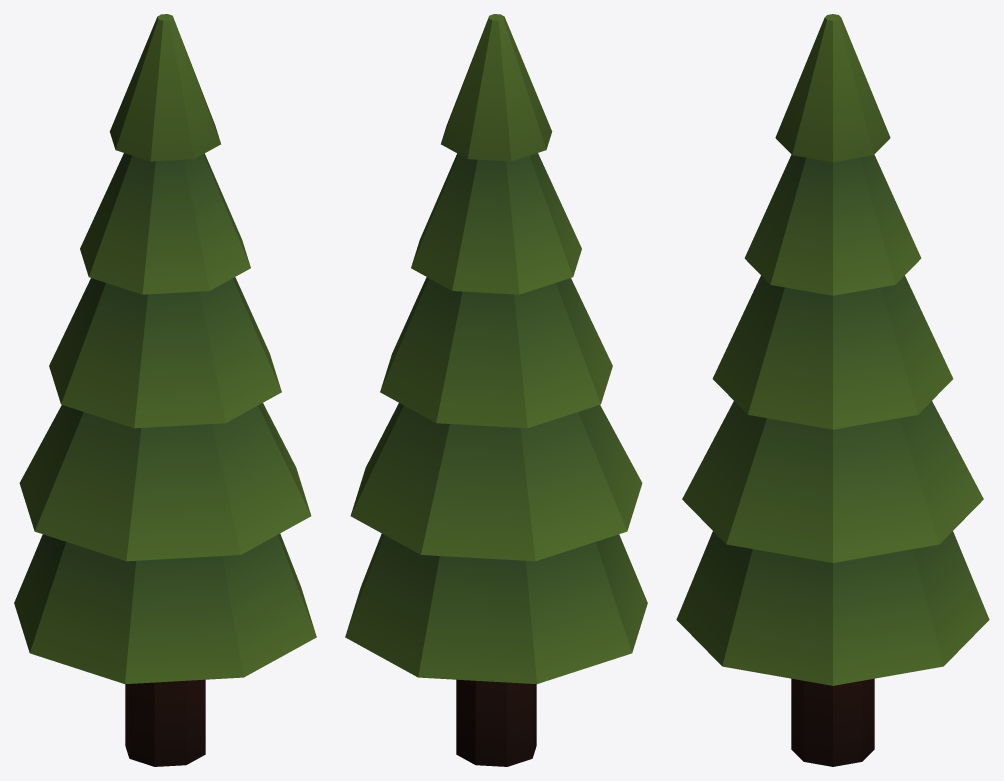
Rendered from PropsTree_v1.fbx.
3 renders of one model, left to right at view 1: azimuth 30°, elevation 25°; view 2: azimuth 150°, elevation 25°; view 3: azimuth 270°, elevation 25°, orthographic.
Parts seen in each view (by area): view 1: Tree_v1; view 2: Tree_v1; view 3: Tree_v1.
Part boxes in pixels (left/top/right/bottom): Tree_v1: left=14, top=14, right=316, bottom=766; Tree_v1: left=345, top=14, right=647, bottom=766; Tree_v1: left=676, top=14, right=989, bottom=766.
Size of the model in its own units: 3.46 by 8.92 by 3.46.
